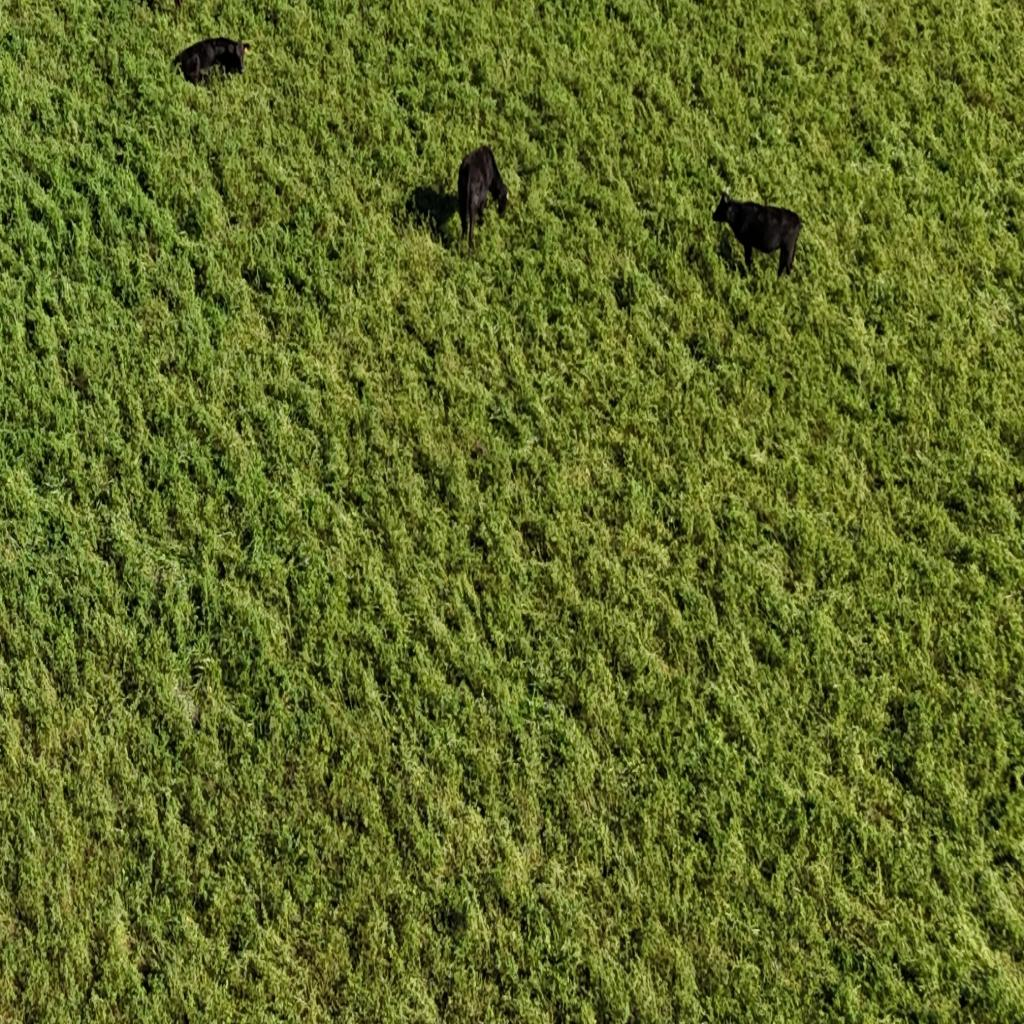cow: (425, 142, 518, 256), (711, 186, 804, 282), (170, 26, 255, 88)
